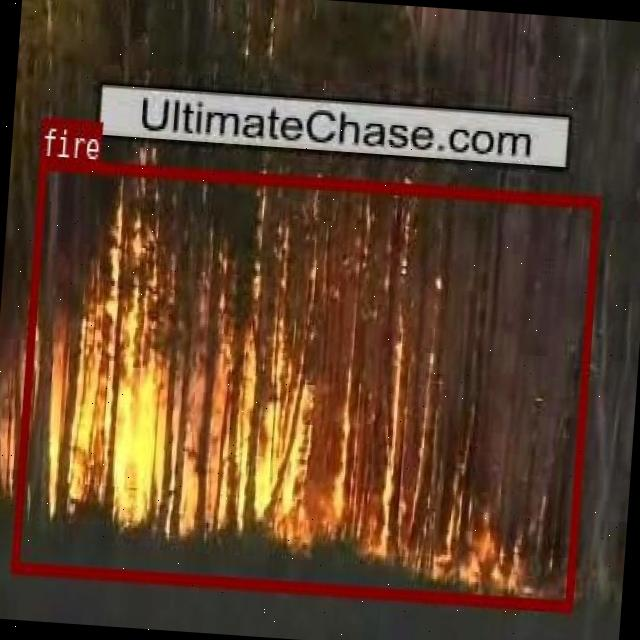fire: (8, 156, 600, 609)
